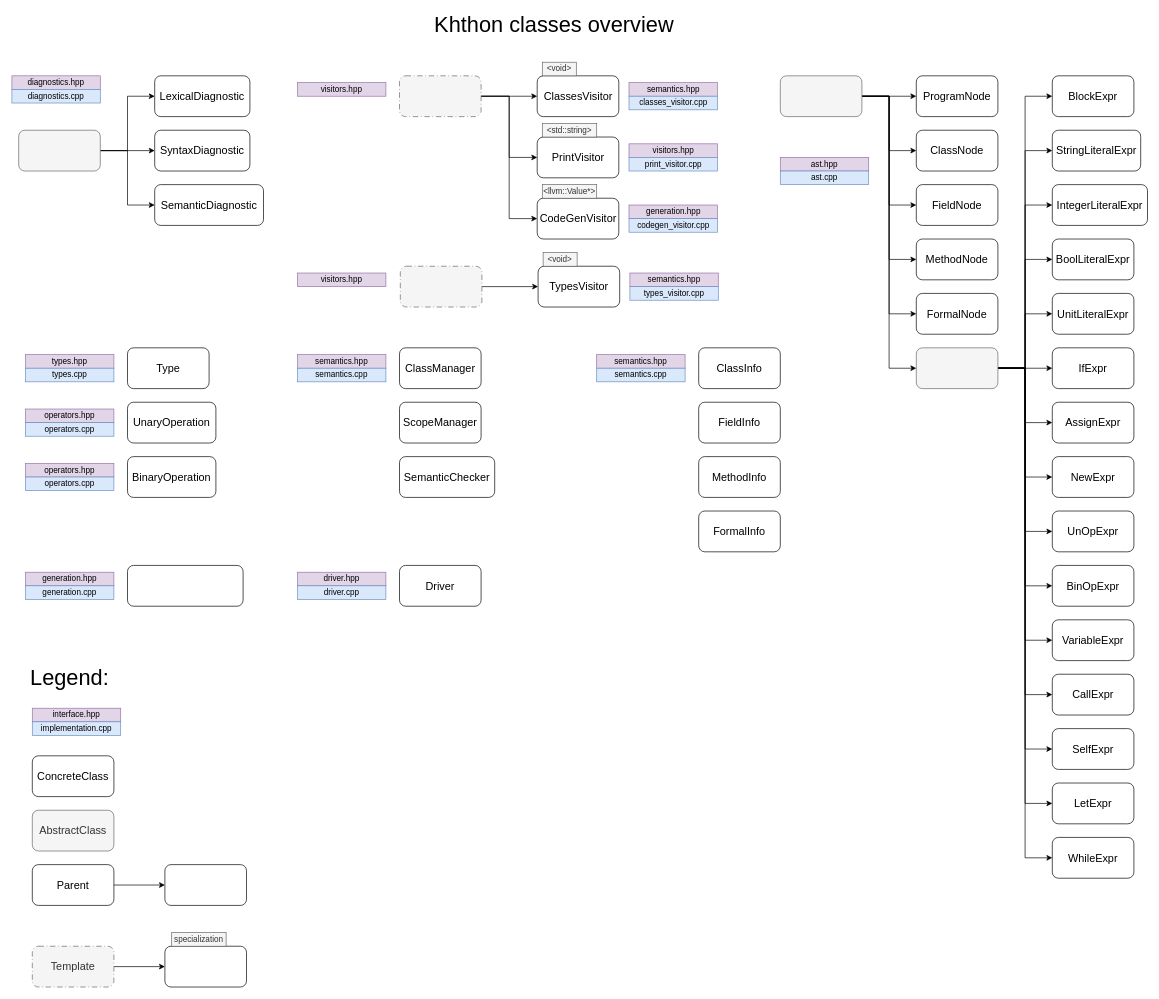
Image size: 1159x999. Some labels were removed from this diagram. Each missing label, with the centre of its shape:
"Child" goes at pixel 205 884.
"Class" goes at pixel 205 966.
"CodeGenOrchestrator" goes at pixel 185 585.
"Diagnostic" goes at pixel 59 150.
"Expr" goes at pixel 957 368.
"MutableVisitor" goes at pixel 441 286.
"Node" goes at pixel 821 96.
"Visitor" goes at pixel 440 96.
